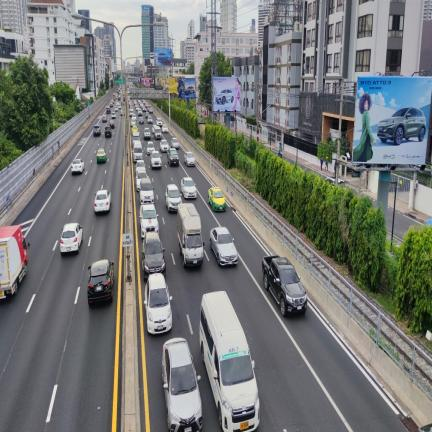car: (162, 338, 202, 431), (144, 273, 172, 334), (87, 259, 114, 305), (142, 233, 165, 280), (210, 227, 237, 265), (60, 223, 82, 255), (165, 184, 182, 212), (139, 178, 154, 203), (94, 190, 111, 212), (181, 177, 196, 197), (136, 170, 148, 191), (71, 158, 84, 173), (151, 150, 161, 169), (184, 152, 195, 166), (97, 148, 107, 163), (153, 125, 162, 139), (160, 139, 169, 152), (136, 161, 146, 171), (418, 424, 432, 431), (147, 141, 154, 155), (171, 137, 179, 149), (93, 125, 101, 136), (143, 128, 151, 139), (132, 125, 139, 136), (105, 126, 112, 137), (156, 118, 163, 127), (161, 124, 168, 132), (109, 120, 115, 128), (147, 117, 153, 123), (130, 120, 136, 126), (102, 115, 107, 122), (139, 117, 144, 124), (131, 114, 136, 120), (111, 112, 116, 118), (148, 106, 153, 112), (138, 109, 142, 116), (106, 108, 110, 113), (214, 383, 216, 385)
human: (321, 155, 323, 170), (326, 157, 328, 164), (325, 165, 327, 170)
pickup: (262, 255, 307, 316), (167, 148, 179, 166)
taxi: (139, 204, 158, 238), (208, 187, 226, 210), (97, 148, 106, 162)
truck: (0, 226, 29, 298), (178, 203, 204, 266)
van: (199, 291, 259, 431), (133, 141, 142, 162), (153, 127, 161, 139)
